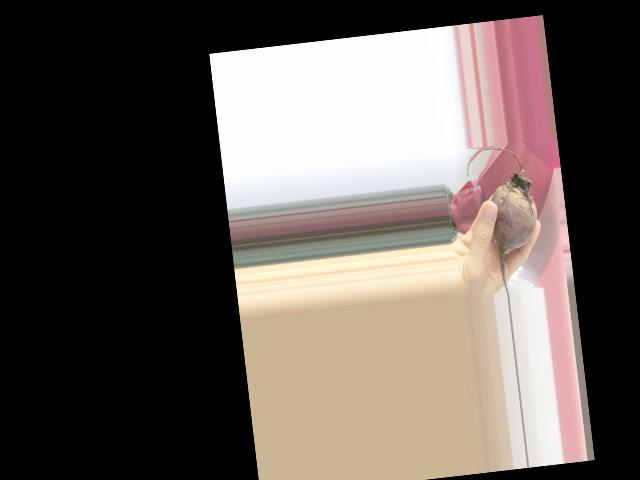beet: (464, 142, 545, 295)
